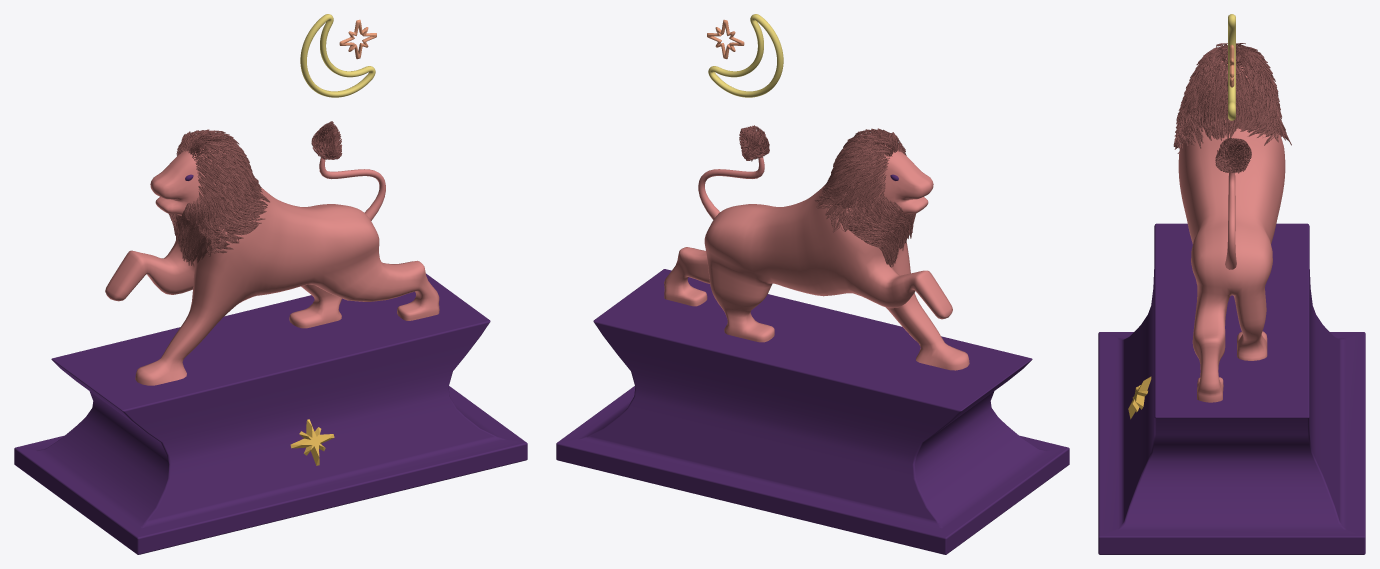
The model's file is badrpost-sign-4998.glb.
3 renders of one model, left to right at view 1: azimuth 30°, elevation 25°; view 2: azimuth 150°, elevation 25°; view 3: azimuth 270°, elevation 25°, orthographic. The views are drawn at different scales.
Visible parts, largest first — view 1: Base, Lion body, Lion_head hair, crescent moon_strok, TAIL, Lion_tail hair, star_; view 2: Base, Lion body, Lion_head hair, crescent moon_strok, TAIL, Lion_tail hair; view 3: Base, Lion body, Lion_head hair, Lion_tail hair, TAIL, crescent moon_strok, star_.
Part boxes in pixels (left/top/right/bottom): Base: left=14, top=273, right=527, bottom=554; Lion body: left=105, top=148, right=439, bottom=385; Lion_head hair: left=169, top=129, right=269, bottom=265; crescent moon_strok: left=300, top=14, right=375, bottom=97; TAIL: left=319, top=157, right=385, bottom=220; Lion_tail hair: left=311, top=121, right=342, bottom=159; star_: left=290, top=419, right=334, bottom=465; Base: left=556, top=269, right=1069, bottom=554; Lion body: left=664, top=144, right=969, bottom=370; Lion_head hair: left=815, top=128, right=916, bottom=267; crescent moon_strok: left=708, top=14, right=783, bottom=97; TAIL: left=698, top=157, right=764, bottom=219; Lion_tail hair: left=739, top=125, right=769, bottom=161; Base: left=1098, top=223, right=1365, bottom=554; Lion body: left=1178, top=57, right=1285, bottom=402; Lion_head hair: left=1173, top=43, right=1291, bottom=153; Lion_tail hair: left=1215, top=137, right=1251, bottom=173; TAIL: left=1225, top=172, right=1236, bottom=269; crescent moon_strok: left=1228, top=14, right=1235, bottom=120; star_: left=1128, top=376, right=1151, bottom=419.
Size of the model in its own units: 0.1308 by 0.139 by 0.072.
